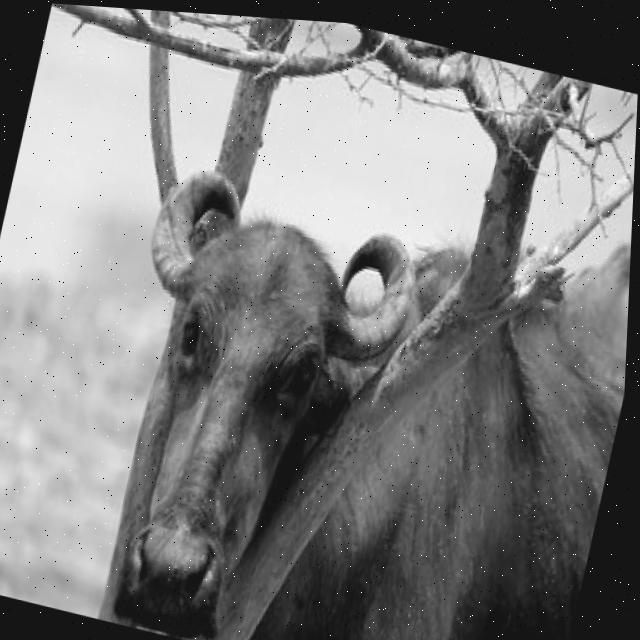Buffalo: (64, 122, 635, 640)
